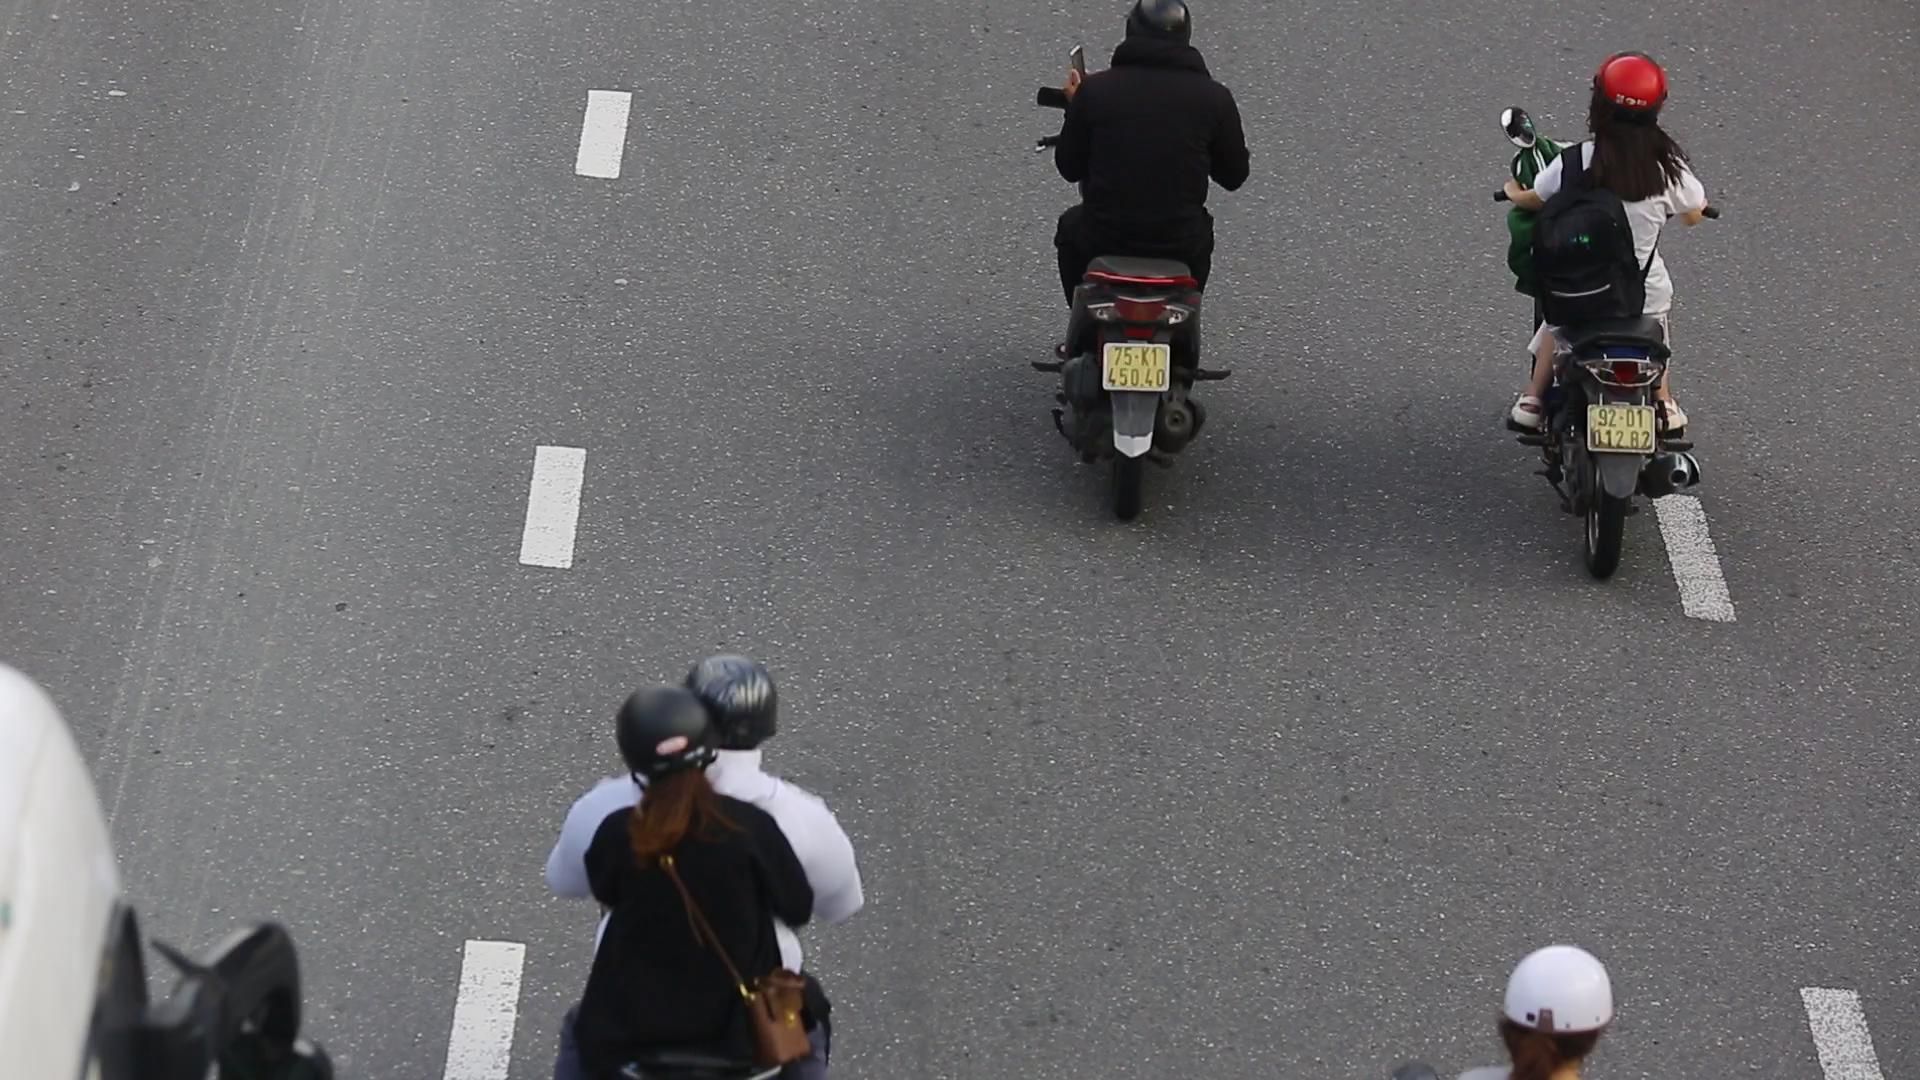motobike: (1486, 42, 1724, 589), (1029, 0, 1261, 553)
